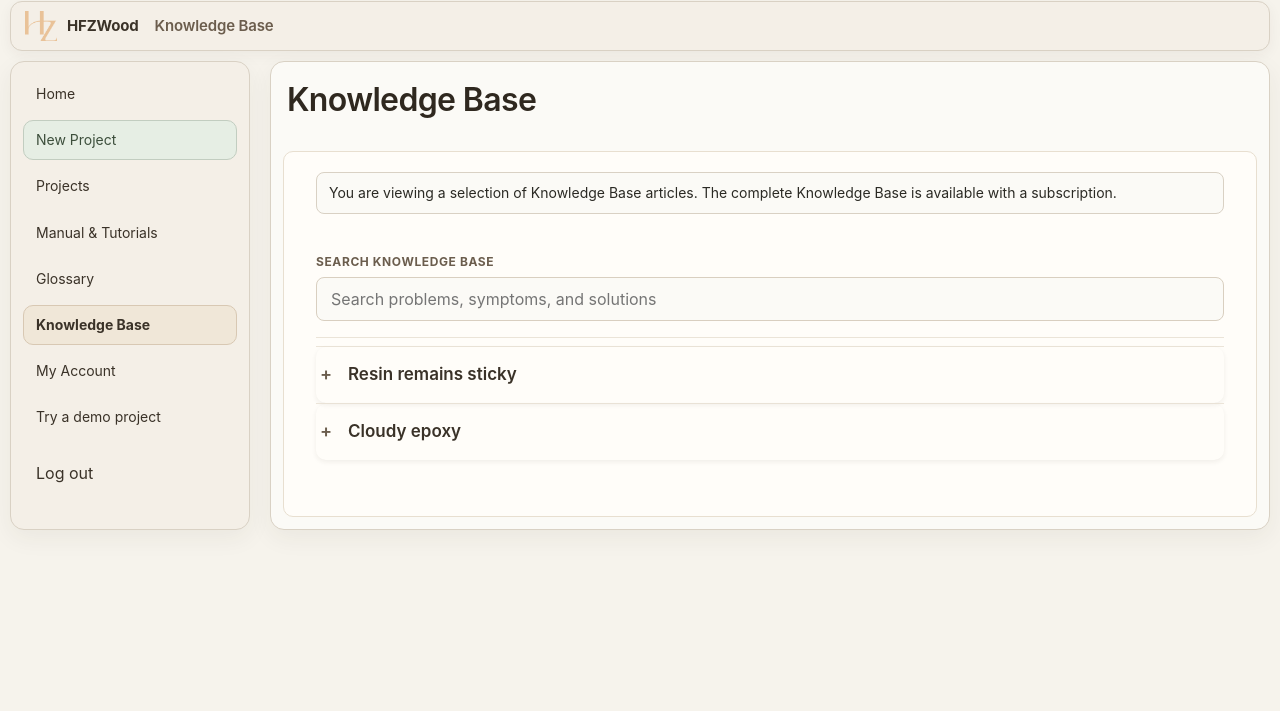
it: KnowledgeBasePage › renders discreet relationship links inside expanded entries
Expected: the search field labelled "Search knowledge base" is shown, [316,277,1224,321]
What coordinates should you click on to do the following:
click the button "+ Resin remains sticky"
I would click on:
 (432, 374)
Its box is [316,347,1224,403].
(page scrolled)
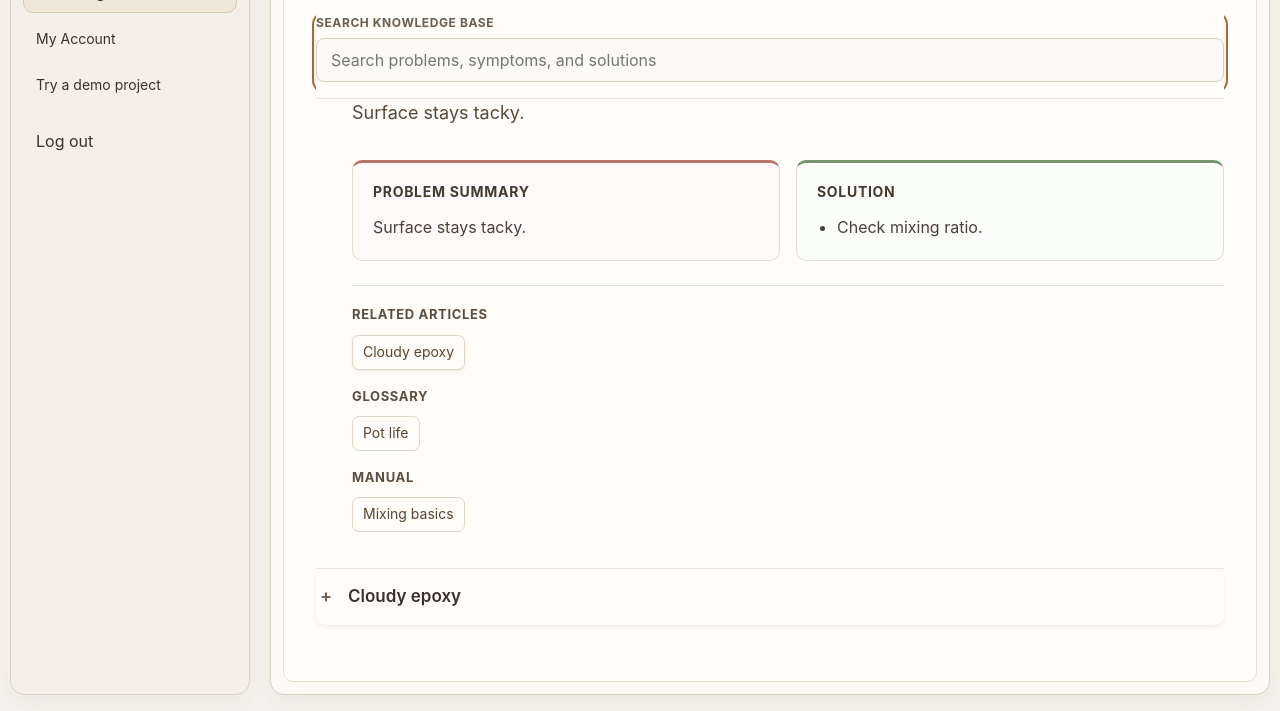
Result: the heading "Related Articles" is shown at [352,306,488,322]
Result: the heading "Glossary" is shown at [352,388,428,404]
Result: the heading "Manual" is shown at [352,469,414,485]
